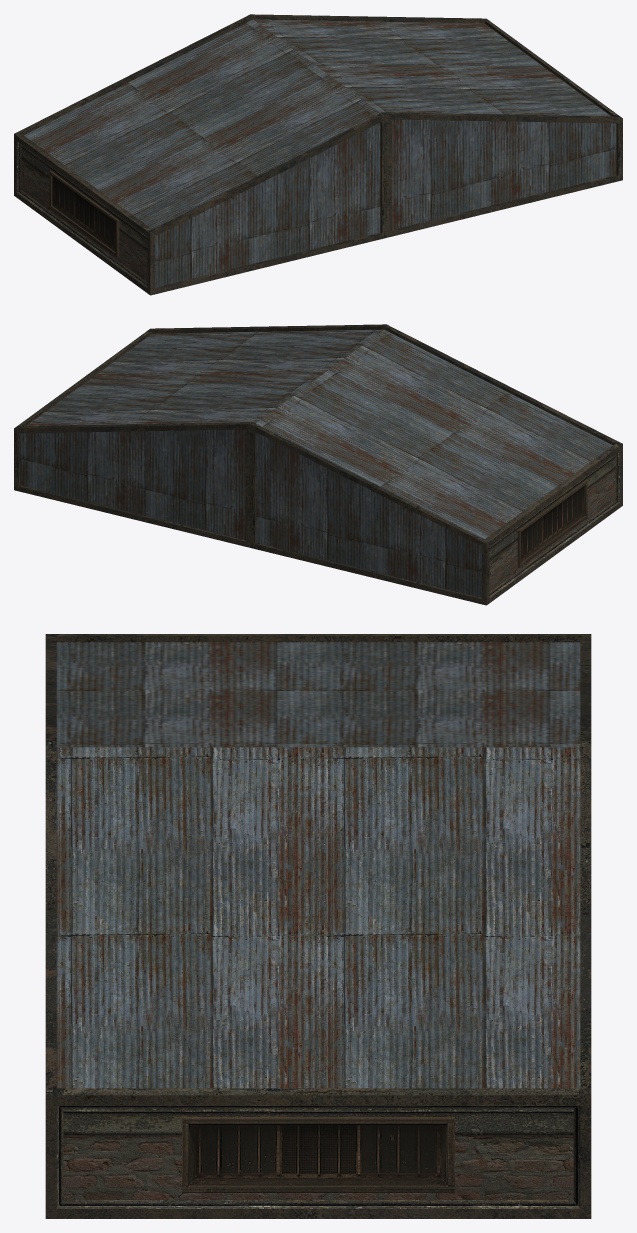
File: roof_mh_4_a_1.glb
3 views of the same model, one above another, from view 1: azimuth 30°, elevation 25°; view 2: azimuth 150°, elevation 25°; view 3: azimuth 270°, elevation 25° (orthographic). The views are drawn at different scales.
Visible parts, largest first — view 1: roof_mh_4_a_1; view 2: roof_mh_4_a_1; view 3: roof_mh_4_a_1.
Boxes of the visible parts, bbox=[...] form: roof_mh_4_a_1: bbox=[14, 14, 622, 295]; roof_mh_4_a_1: bbox=[14, 324, 622, 605]; roof_mh_4_a_1: bbox=[45, 634, 591, 1218].
Size of the model in its own units: 8 by 2 by 4.
Materials: 6 (6 with a texture image).
